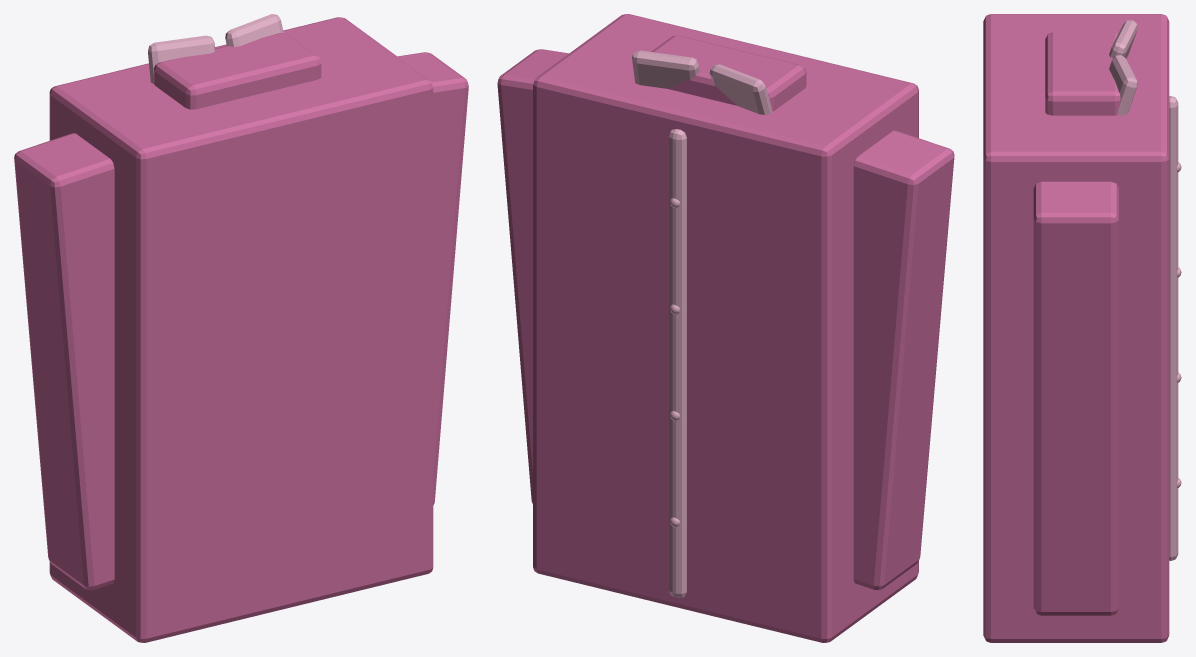
Rendered from VM-CAB-EXT86.glb.
3 renders of one model, left to right at view 1: azimuth 30°, elevation 25°; view 2: azimuth 150°, elevation 25°; view 3: azimuth 270°, elevation 25°, orthographic.
Parts seen in each view (by area): view 1: Camisa Manga Corta Hombre; view 2: Camisa Manga Corta Hombre; view 3: Camisa Manga Corta Hombre.
Boxes of the visible parts, x1=… form: Camisa Manga Corta Hombre: x1=14, y1=14, x2=468, y2=642; Camisa Manga Corta Hombre: x1=497, y1=14, x2=954, y2=642; Camisa Manga Corta Hombre: x1=983, y1=14, x2=1181, y2=642.
Bounding box in the file's own units: 0.6437 × 0.7766 × 0.2657.
